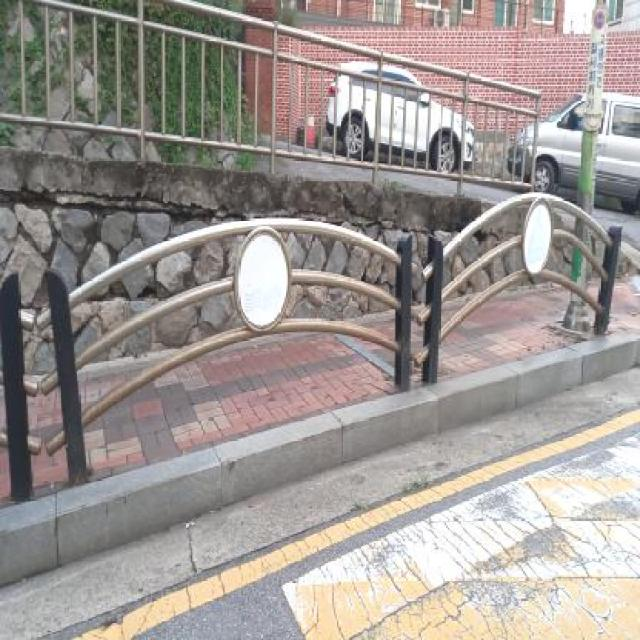bump: (7, 435, 358, 570), (422, 342, 640, 427)
fence: (2, 170, 468, 404), (394, 136, 639, 343)
